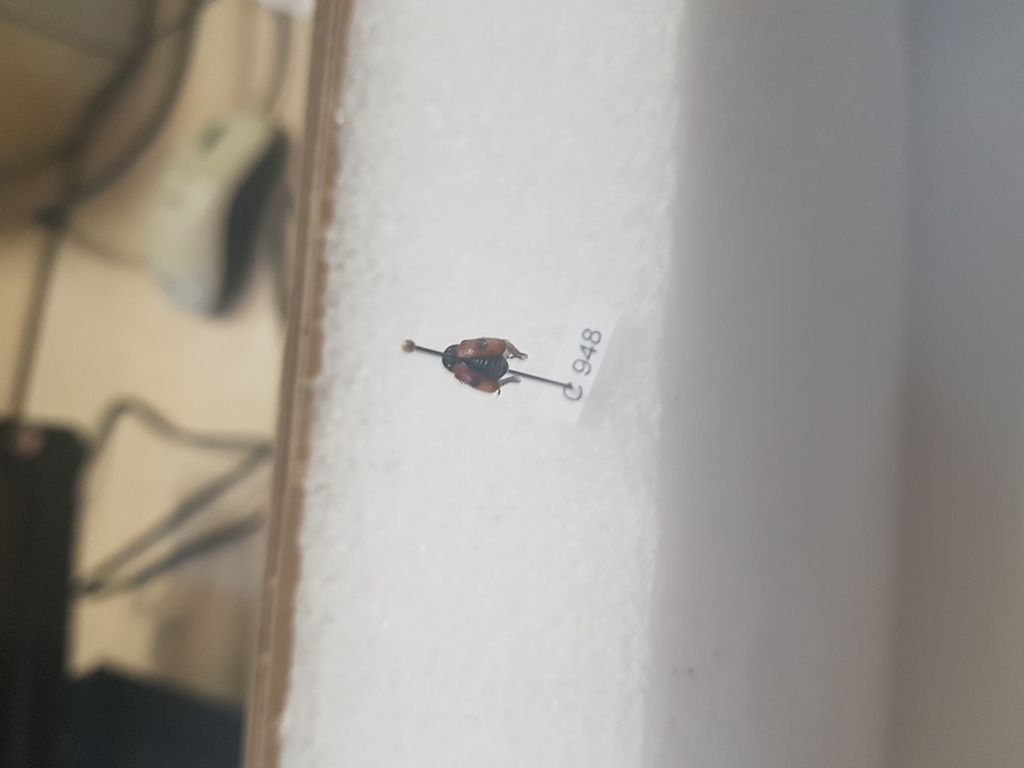Cryptocephalus_bipunctatus: (432, 333, 527, 399)
